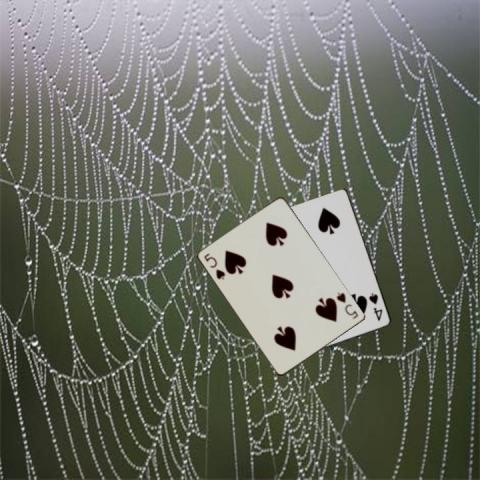4s: (366, 291, 384, 322)
5s: (334, 289, 360, 321), (201, 250, 227, 281)
